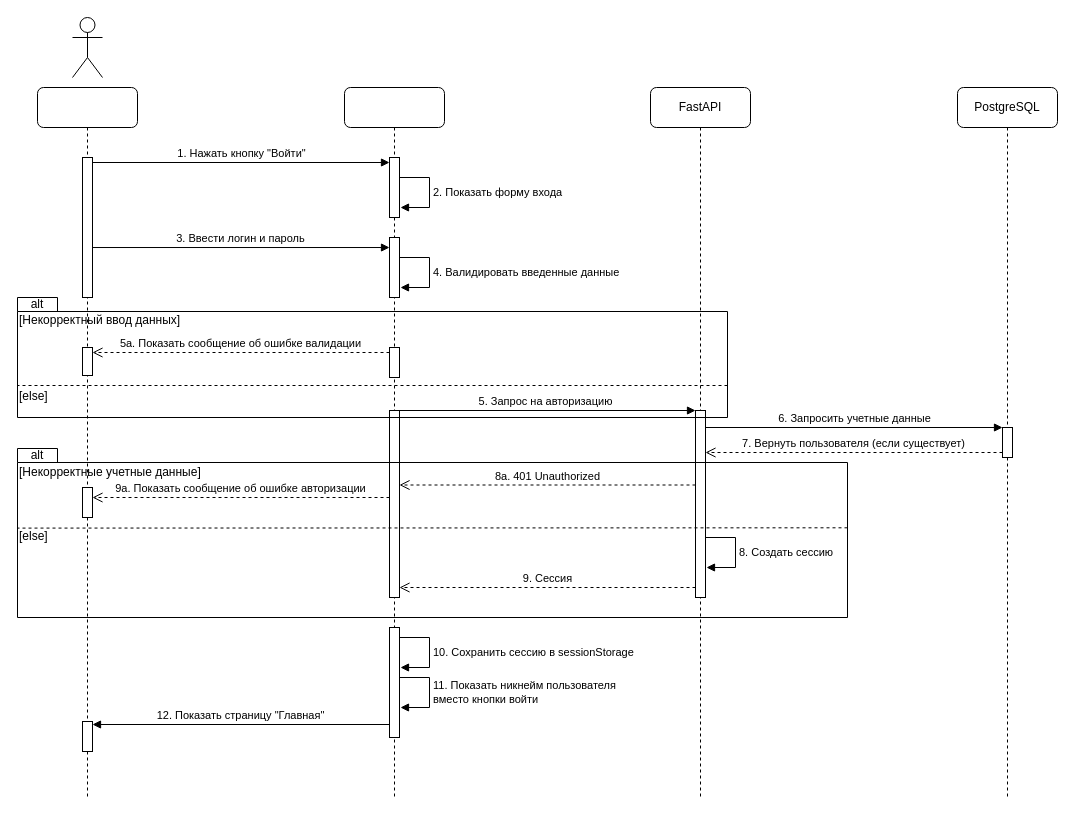
This 1075x815 diagram has some shape labels left out. Here are the shapes that lost their labels. From the top down, the box of each, then its label:
(36, 86, 138, 798): Пользователь
(344, 86, 444, 798): React
